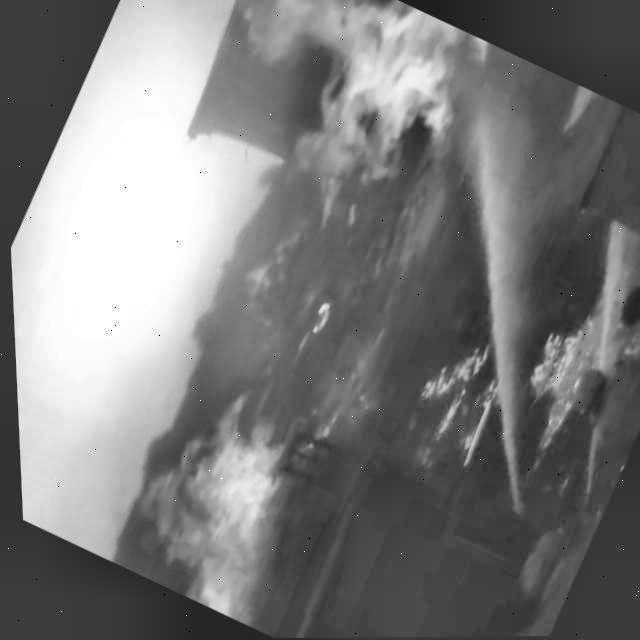Fire: (76, 0, 497, 244), (100, 370, 339, 628)
